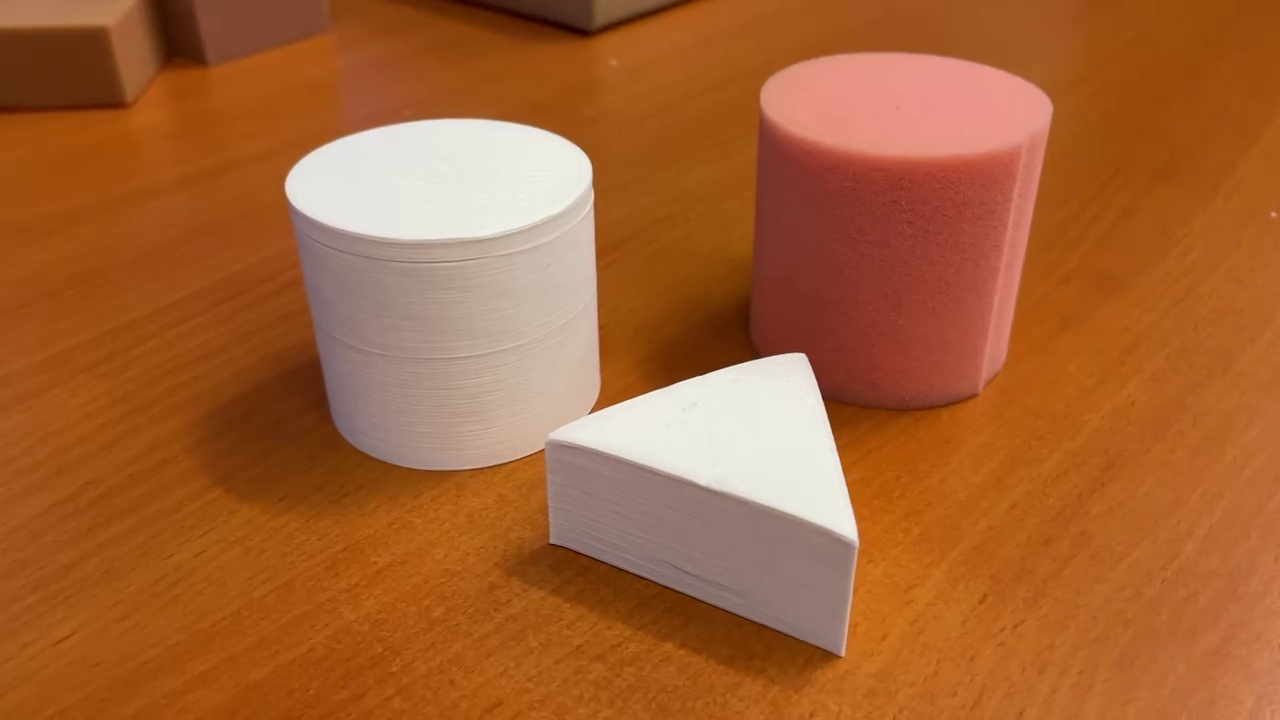Cylinder: (725, 40, 1056, 418), (276, 99, 606, 477)
Triangle_short: (541, 346, 866, 663)
